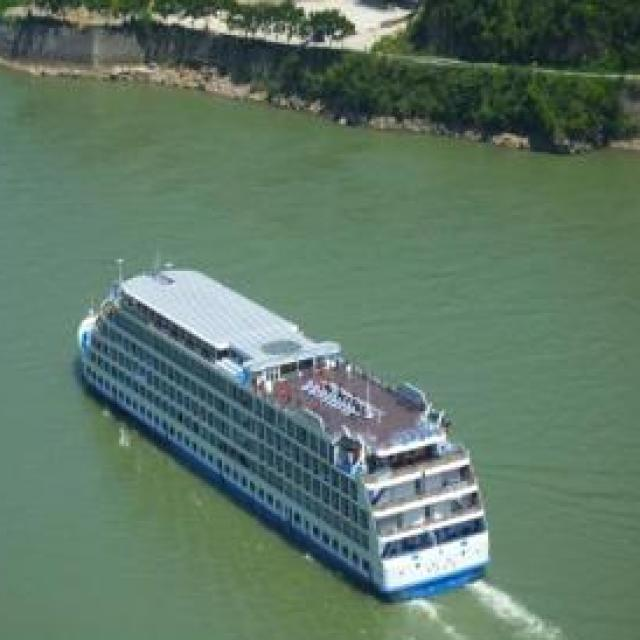passenger ship: (75, 252, 495, 600)
